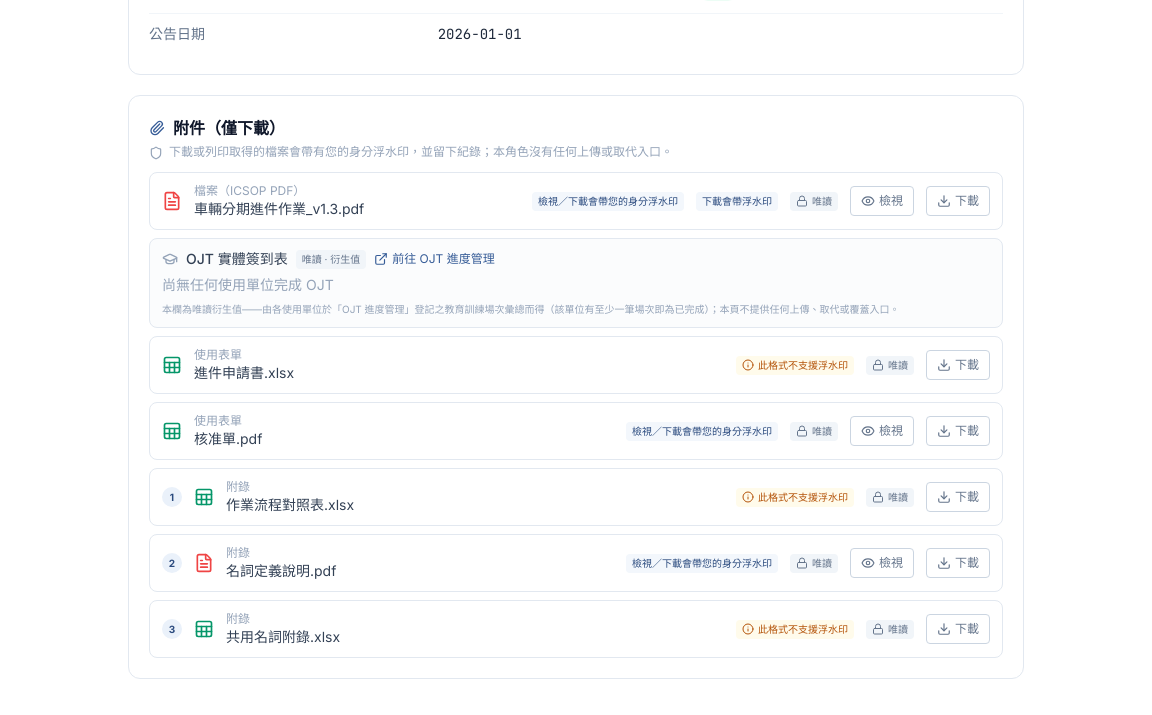
Test: DocumentReadonlyPage — F016 唯讀檢視（移植 prototype 16） › F039 附錄依 sortOrder 遞增呈現（prototype 16） › 🔵 F016 AC-AV1／AC-AV2 附件「檢視」（僅 PDF） › 🔴 分頁被封鎖 ⇒ 不發請求（否則寫下使用者沒看到的 VIEW 稽核），並提示
(page scrolled)
expect the text "名詞定義說明.pdf" is shown: met, box x1=226 y1=562 x2=336 y2=579
Click the button "檢視" in the row of "名詞定義說明.pdf" at (882, 563), box x1=850 y1=548 x2=914 y2=578
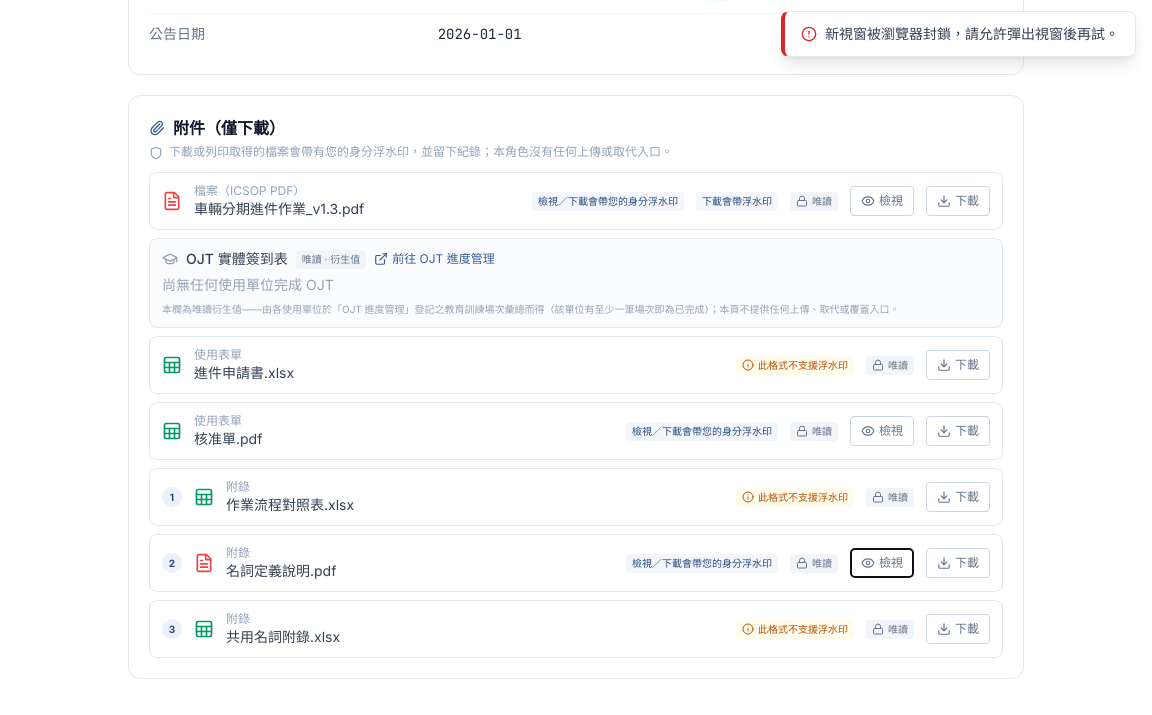
expect the text "新視窗被瀏覽器封鎖，請允許彈出視窗後再試。" is shown: met, box x1=825 y1=24 x2=1119 y2=44
